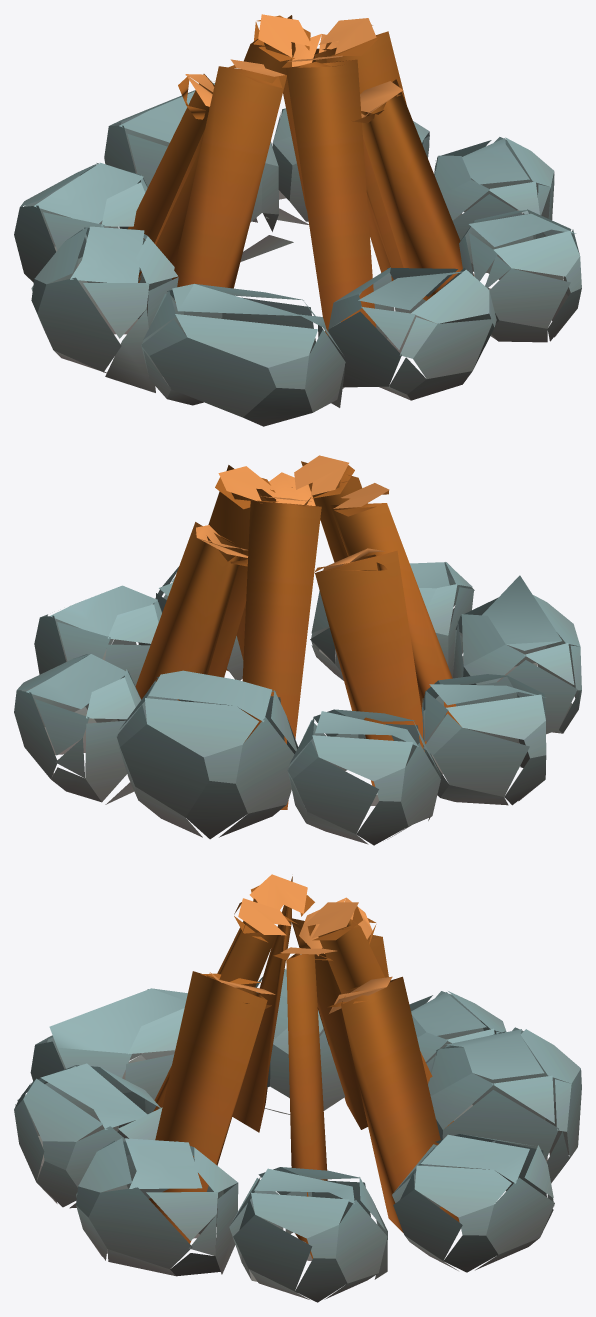
The model's file is decorSmall-snow-60.glb.
The picture shows the model from 3 angles, top to bottom: view 1: azimuth 30°, elevation 25°; view 2: azimuth 150°, elevation 25°; view 3: azimuth 270°, elevation 25°; orthographic projection. The views are drawn at different scales.
Visible parts, largest first — view 1: piece; view 2: piece; view 3: piece.
Boxes of the visible parts, <box> form: piece: <box>14,14,581,426</box>; piece: <box>14,455,581,845</box>; piece: <box>14,874,581,1302</box>.
Bounding box in the file's own units: 1.59 × 0.8331 × 1.49.
Materials: 1 (1 with a texture image).
